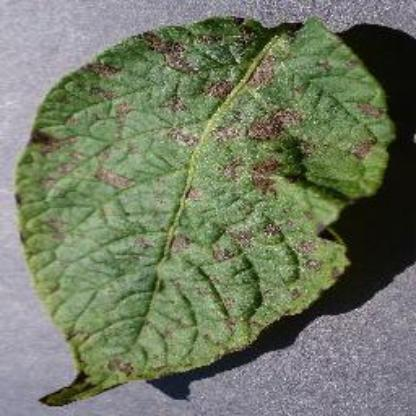Early-Blight: (17, 15, 395, 409)
